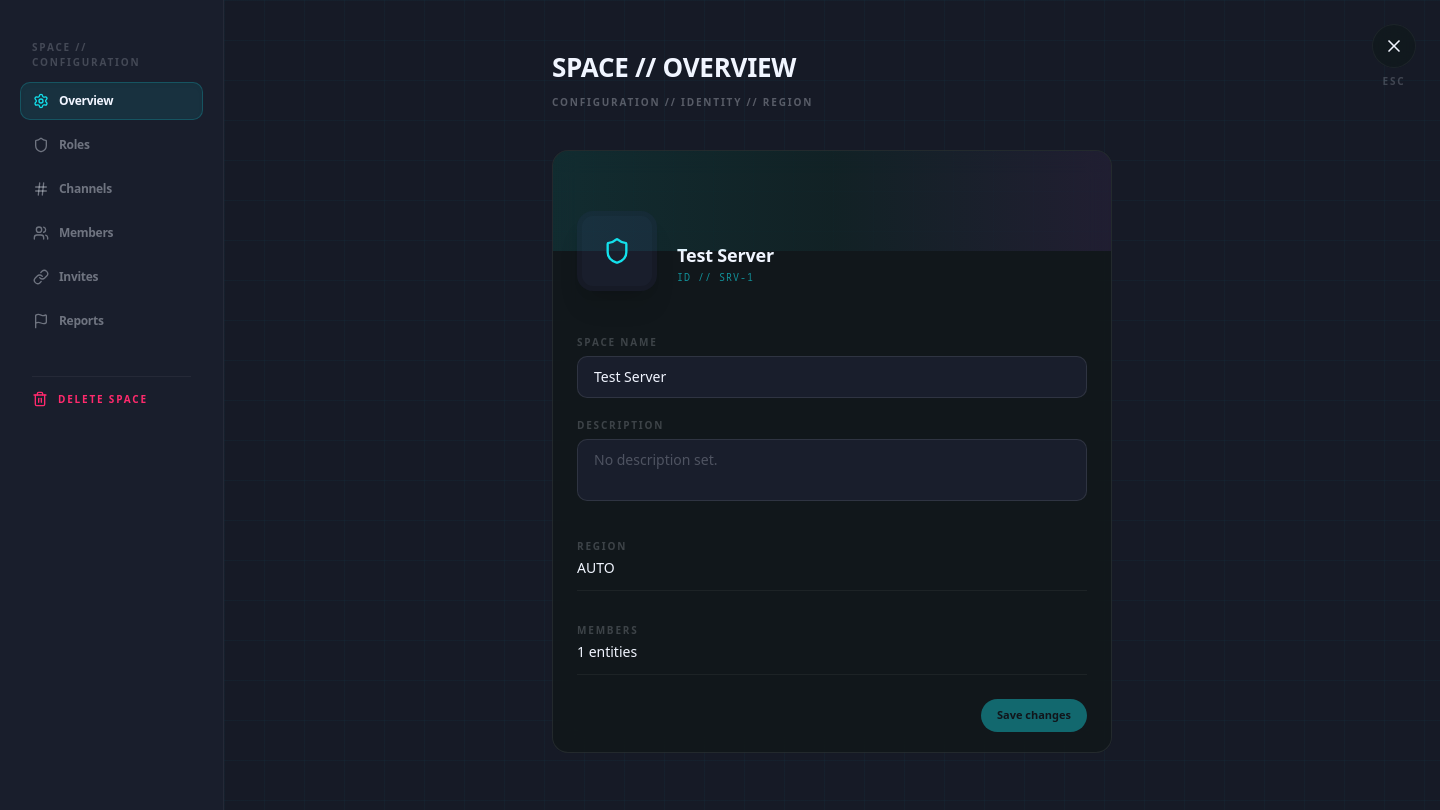
Scenario: ServerSettingsScreen › keeps the first member when duplicate ids collide in admin state
This screenshot has width=1440, height=810.
Click the button "Members" at (112, 233), box [20,214,203,252]
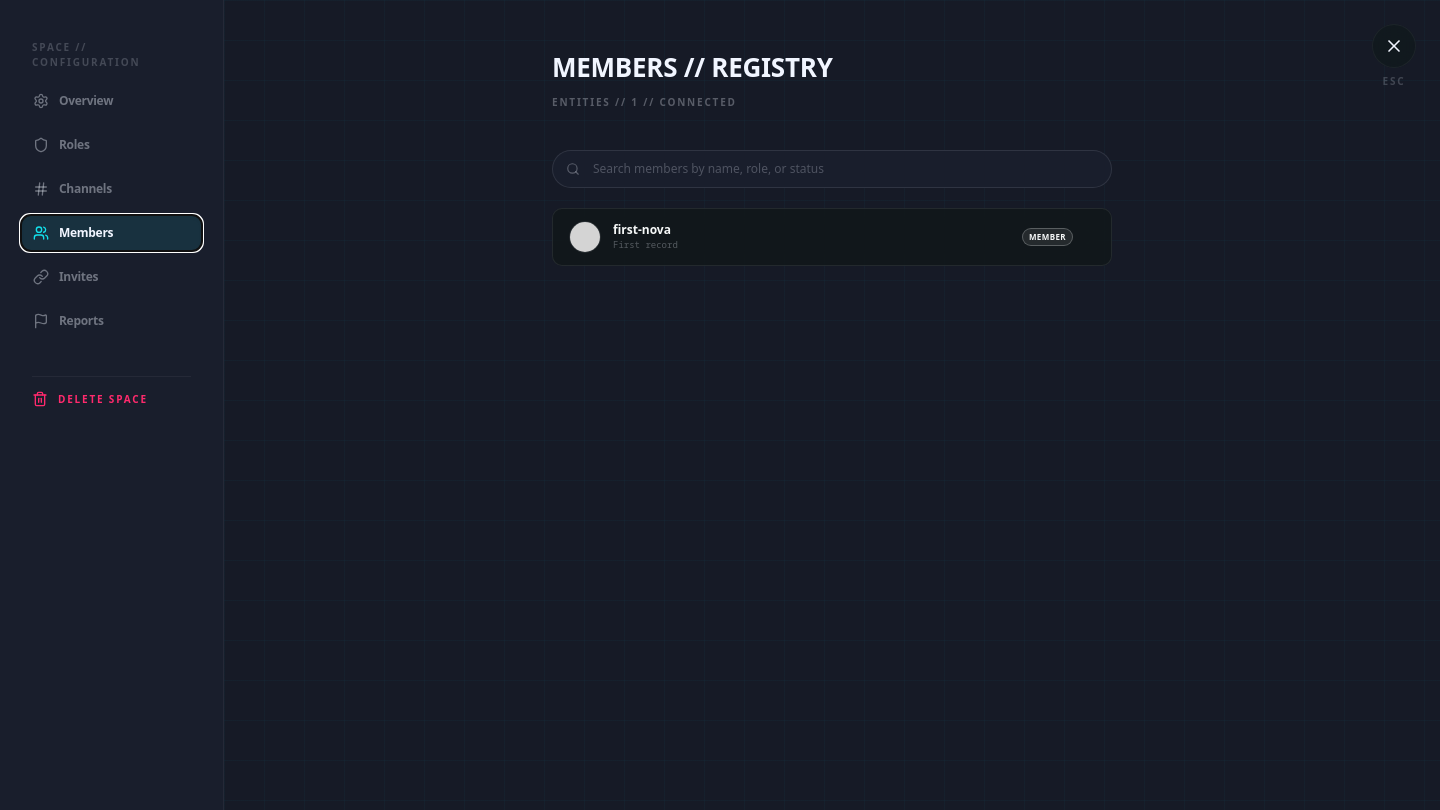
expect the text "first-nova" is shown once: met, box [613,222,671,238]
